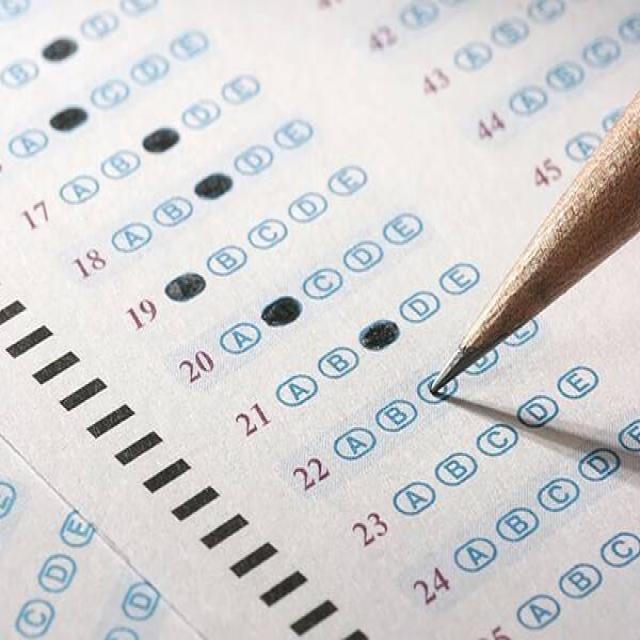pencil: (402, 78, 640, 417)
